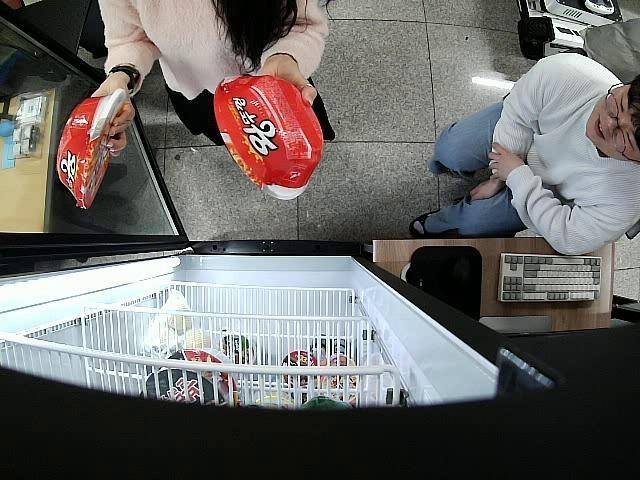10_wangTtukkeong: (212, 72, 326, 200), (55, 89, 126, 210)
